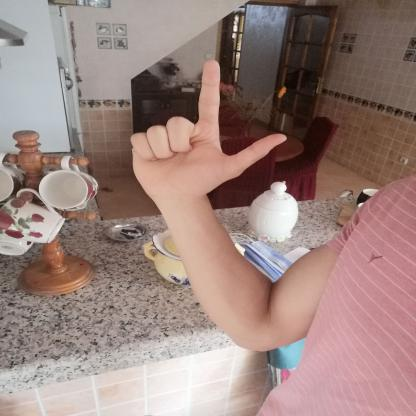LAAM: (120, 51, 296, 208)
